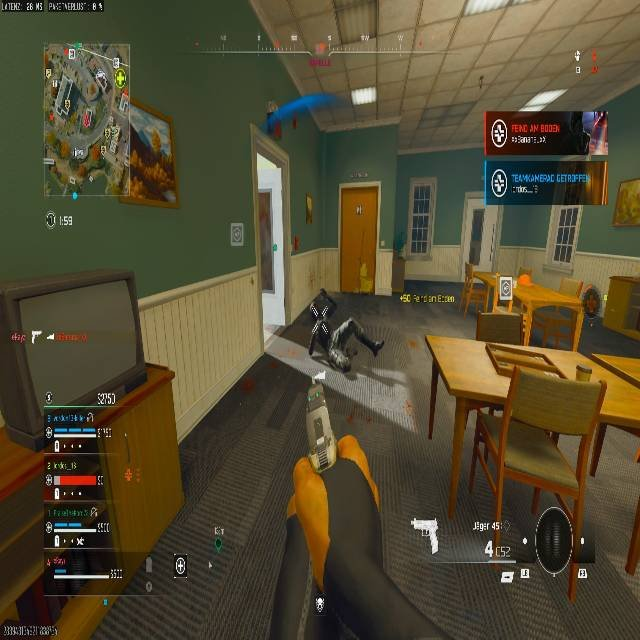head: (586, 285, 595, 294)
player: (579, 283, 602, 328)
